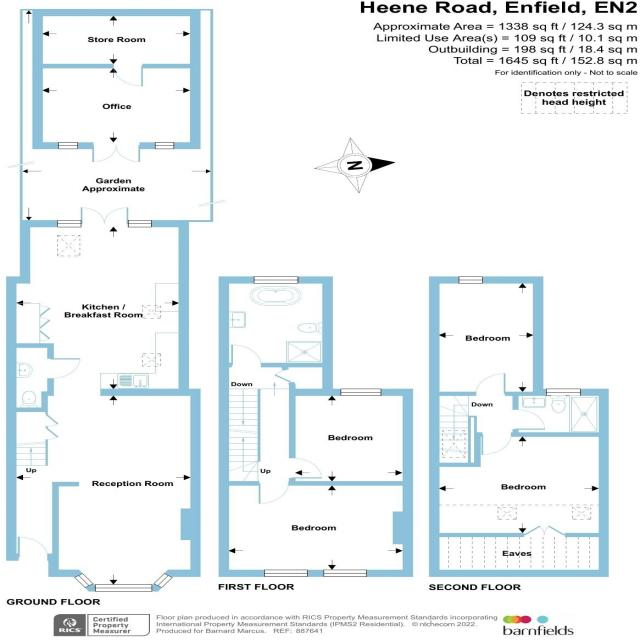DOOR: (16, 536, 49, 561), (230, 343, 263, 367), (288, 457, 323, 479), (474, 373, 507, 396), (257, 481, 290, 504), (47, 357, 81, 379), (512, 409, 547, 430), (481, 432, 512, 455)
DOUBLE DOOR: (77, 204, 130, 229)
ROOM: (6, 206, 190, 396), (429, 432, 609, 537), (218, 481, 414, 577), (429, 276, 544, 396), (289, 389, 414, 486)
WINDOW: (94, 584, 153, 592), (73, 572, 95, 589), (152, 572, 174, 589), (253, 276, 299, 284), (263, 569, 308, 577), (323, 569, 367, 577), (340, 388, 382, 396), (545, 388, 581, 396), (56, 219, 82, 228), (457, 276, 484, 284), (127, 220, 152, 228)
